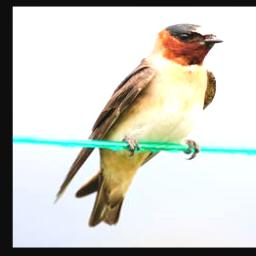Swallow: (53, 22, 225, 228)
